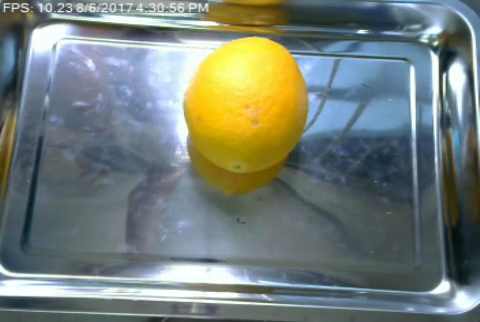Orange: (181, 37, 308, 172)
